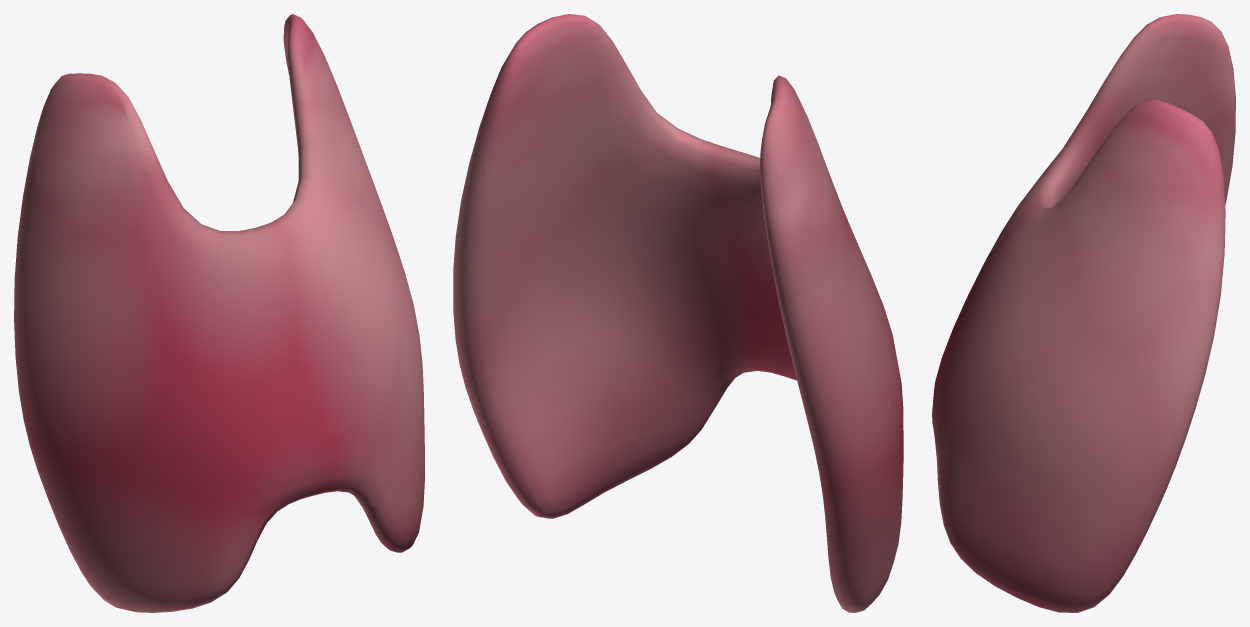
File: Glandula_thyreoidea.fbx
3 views of the same model, side by side, from view 1: azimuth 30°, elevation 25°; view 2: azimuth 150°, elevation 25°; view 3: azimuth 270°, elevation 25° (orthographic). The views are drawn at different scales.
Parts seen in each view (by area): view 1: Glandula_thyreoidea_LOD0; view 2: Glandula_thyreoidea_LOD0; view 3: Glandula_thyreoidea_LOD0.
Boxes of the visible parts, x1,y1,x2,y2 form: Glandula_thyreoidea_LOD0: [14, 14, 424, 612]; Glandula_thyreoidea_LOD0: [453, 14, 903, 612]; Glandula_thyreoidea_LOD0: [932, 14, 1235, 612].
Size of what is drawn, in the model's own units: 0.1027 by 0.1346 by 0.0744.
1 material, 1 textured.
